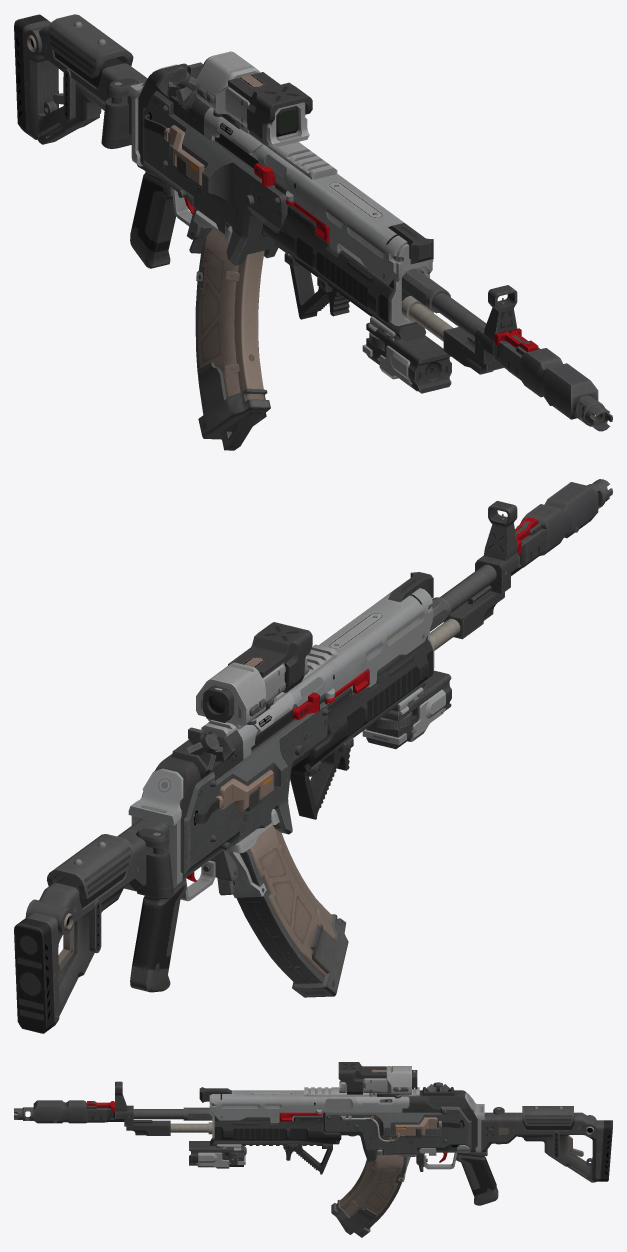
File: raw.glb
The picture shows the model from 3 angles, top to bottom: view 1: azimuth 30°, elevation 25°; view 2: azimuth 150°, elevation 25°; view 3: azimuth 270°, elevation 25°; orthographic projection. The views are drawn at different scales.
Visible parts, largest first — view 1: an94_ssr_LOD0; view 2: an94_ssr_LOD0; view 3: an94_ssr_LOD0.
Boxes of the visible parts, x1,y1,x2,y2 form: an94_ssr_LOD0: [14, 14, 612, 450]; an94_ssr_LOD0: [14, 479, 612, 1033]; an94_ssr_LOD0: [14, 1062, 612, 1237].
Bounding box in the file's own units: 0.0996 × 0.3094 × 0.9311.
Materials: 1 (1 with a texture image).
